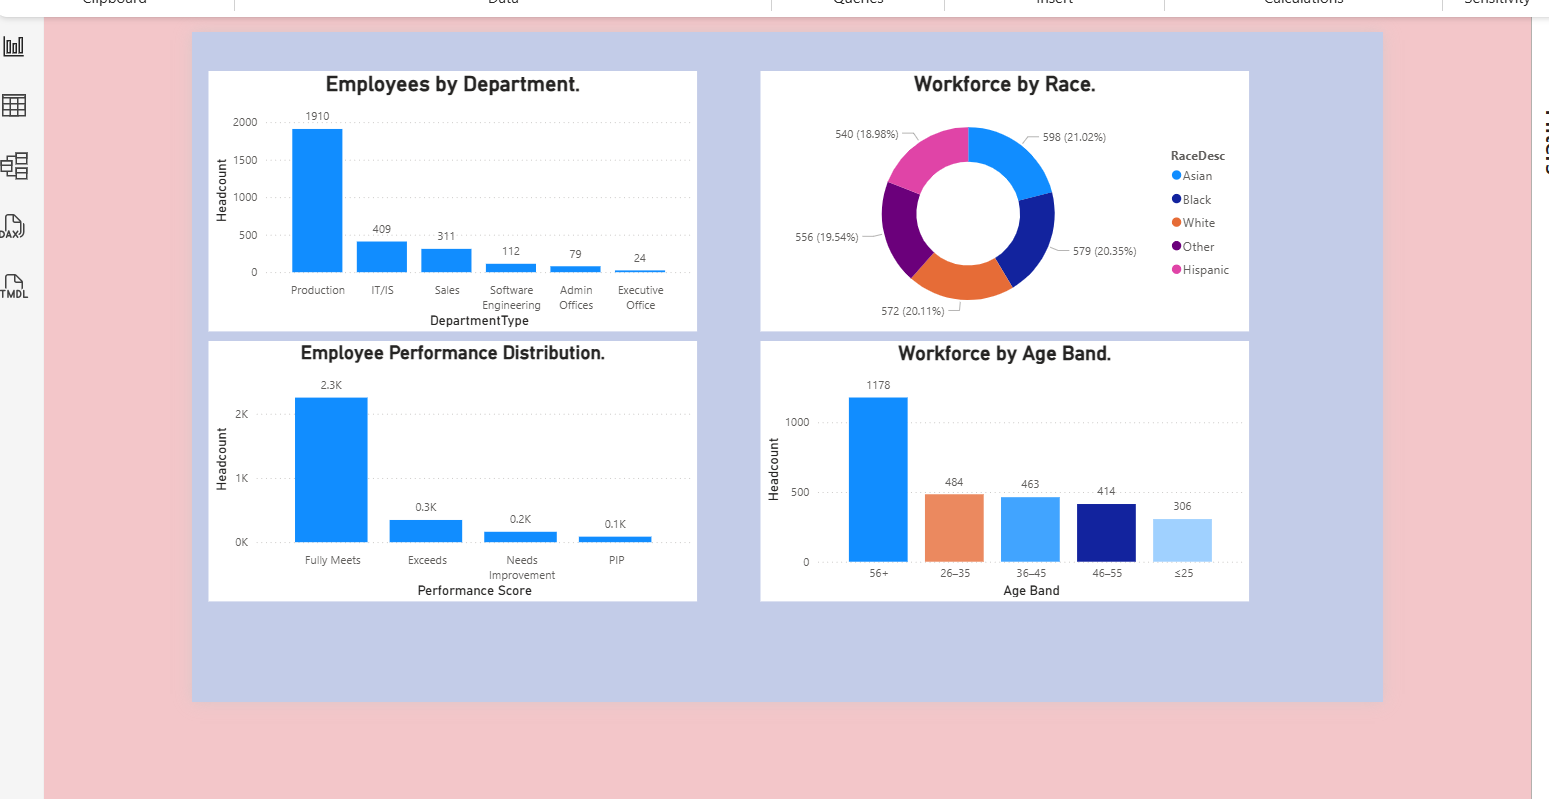

Layout of this report page (visuals, bound fields, positions):
{"tool":"powerbi","page":{"name":"Workforce Insights","canvas":[1280,720],"ordinal":1},"visuals":[{"type":"clusteredColumnChart","title":"Employees by Department.","fields":{"Category":["HR_Data_Analysis.DepartmentType"],"Y":["HR_Data_Analysis.Headcount"]},"box":[18.3,41.7,525,280],"z":0},{"type":"donutChart","title":"Workforce by Race.","fields":{"Category":["HR_Data_Analysis.RaceDesc"],"Y":["HR_Data_Analysis.Headcount"]},"box":[611.7,41.7,525,280],"z":1000},{"type":"columnChart","title":"Employee Performance Distribution.","fields":{"Category":["HR_Data_Analysis.Performance Score"],"Y":["HR_Data_Analysis.Headcount"]},"box":[18,332,525,280],"z":2000},{"type":"columnChart","title":"Workforce by Age Band.","fields":{"Category":["HR_Data_Analysis.Age Band"],"Y":["HR_Data_Analysis.Headcount"]},"box":[612,332,525,280],"z":3000}]}

Visuals, with their boxes on the page's 1280x720 design canvas (x1, y1, x2, y2). These are canvas units, not pixel positions in the 1549x799 screenshot, which may show the page scaled, cropped or inside an application window:
"Employees by Department." clusteredColumnChart: x1=18 y1=42 x2=543 y2=322
"Workforce by Race." donutChart: x1=612 y1=42 x2=1137 y2=322
"Employee Performance Distribution." columnChart: x1=18 y1=332 x2=543 y2=612
"Workforce by Age Band." columnChart: x1=612 y1=332 x2=1137 y2=612
